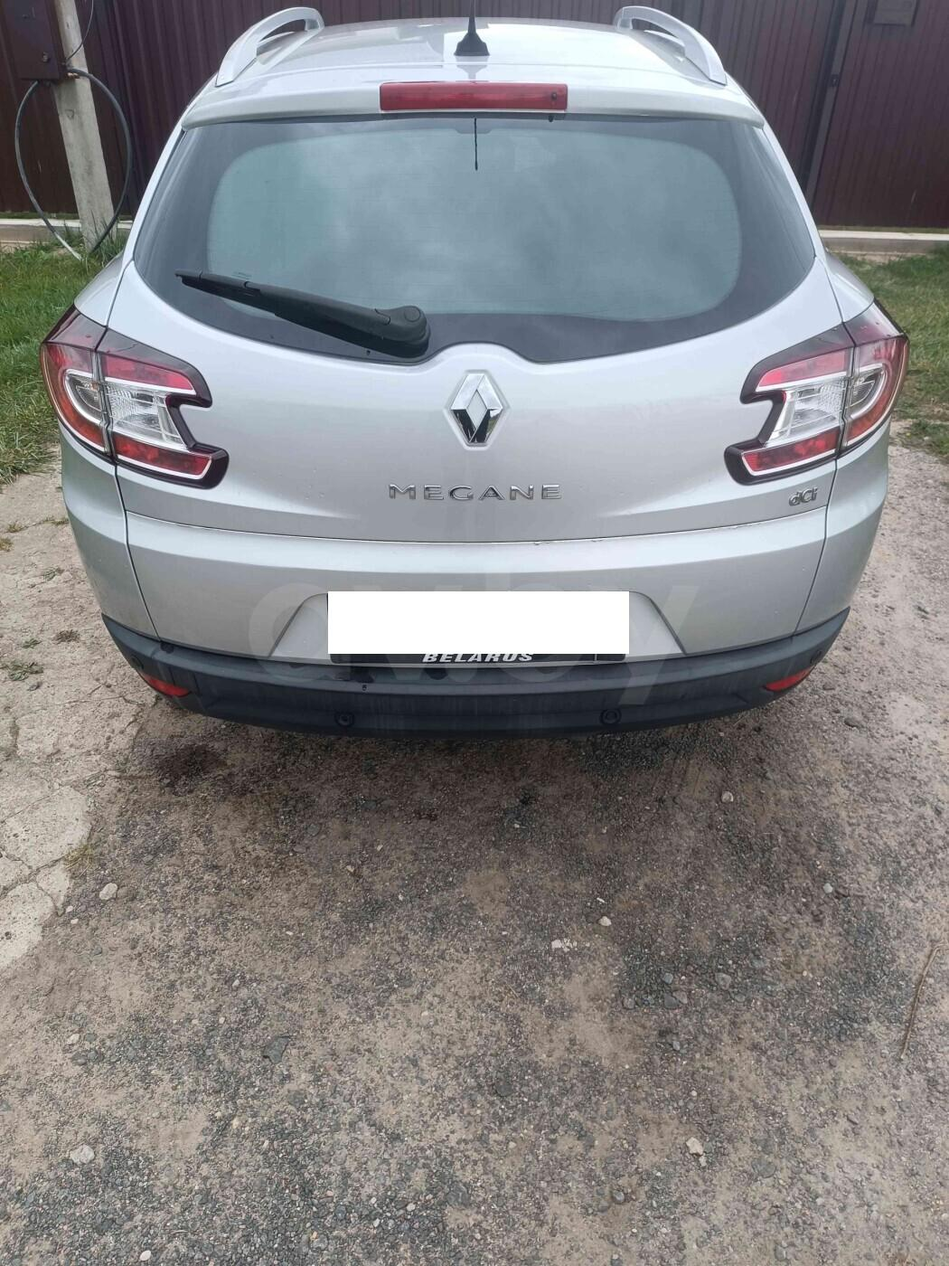Megane_2008-2014: (40, 16, 907, 742)
